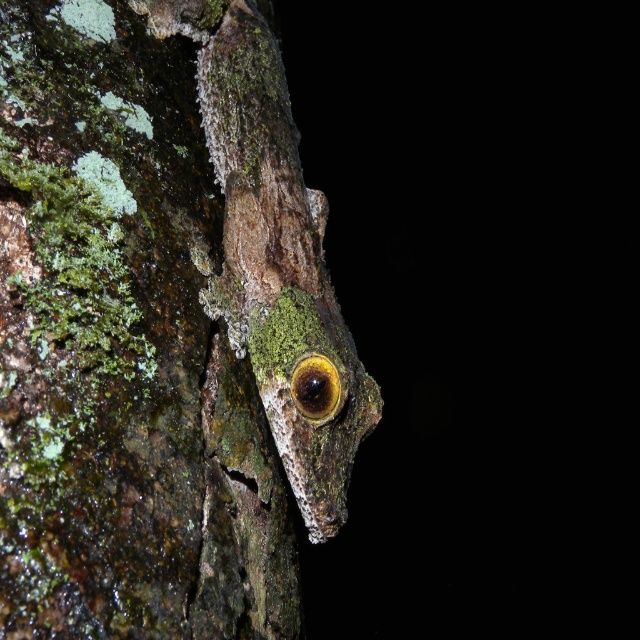Lizard: (127, 0, 382, 547)
